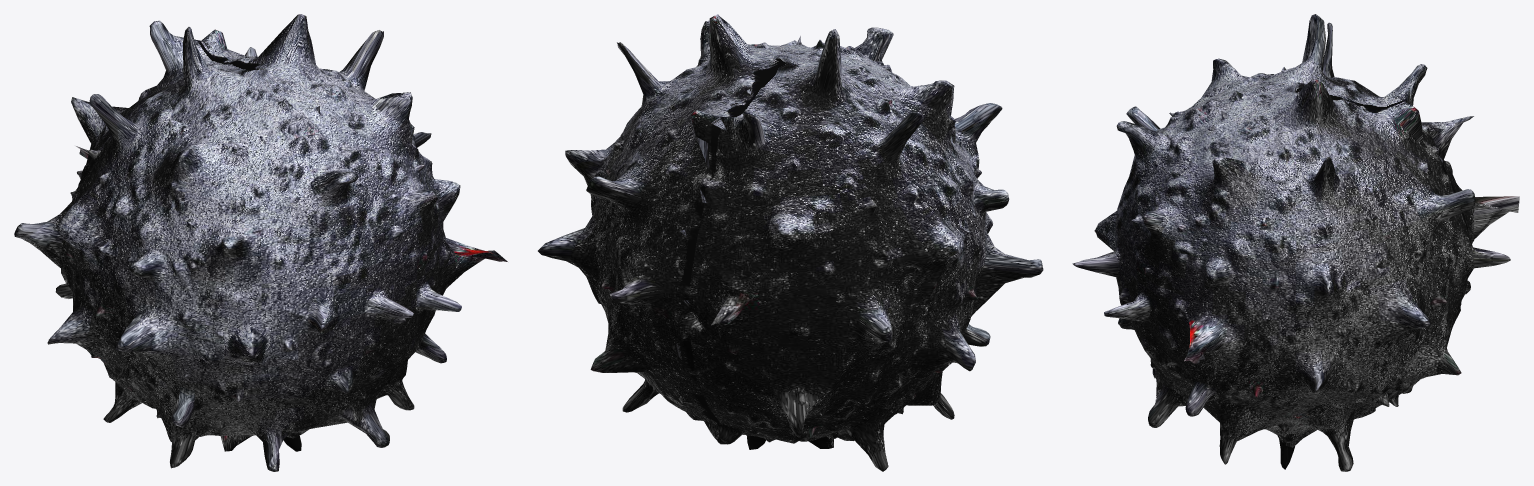
File: virusEinsZwei.obj
3 renders of one model, left to right at view 1: azimuth 30°, elevation 25°; view 2: azimuth 150°, elevation 25°; view 3: azimuth 270°, elevation 25°, orthographic. The views are drawn at different scales.
Visible parts, largest first — view 1: Low_Poly; view 2: Low_Poly; view 3: Low_Poly.
Boxes of the visible parts, left/top/right/bottom form: Low_Poly: left=14, top=14, right=507, bottom=471; Low_Poly: left=538, top=14, right=1043, bottom=471; Low_Poly: left=1072, top=14, right=1519, bottom=471.
Bounding box in the file's own units: 0.5376 × 0.5768 × 0.569.
Materials: 1 (1 with a texture image).
